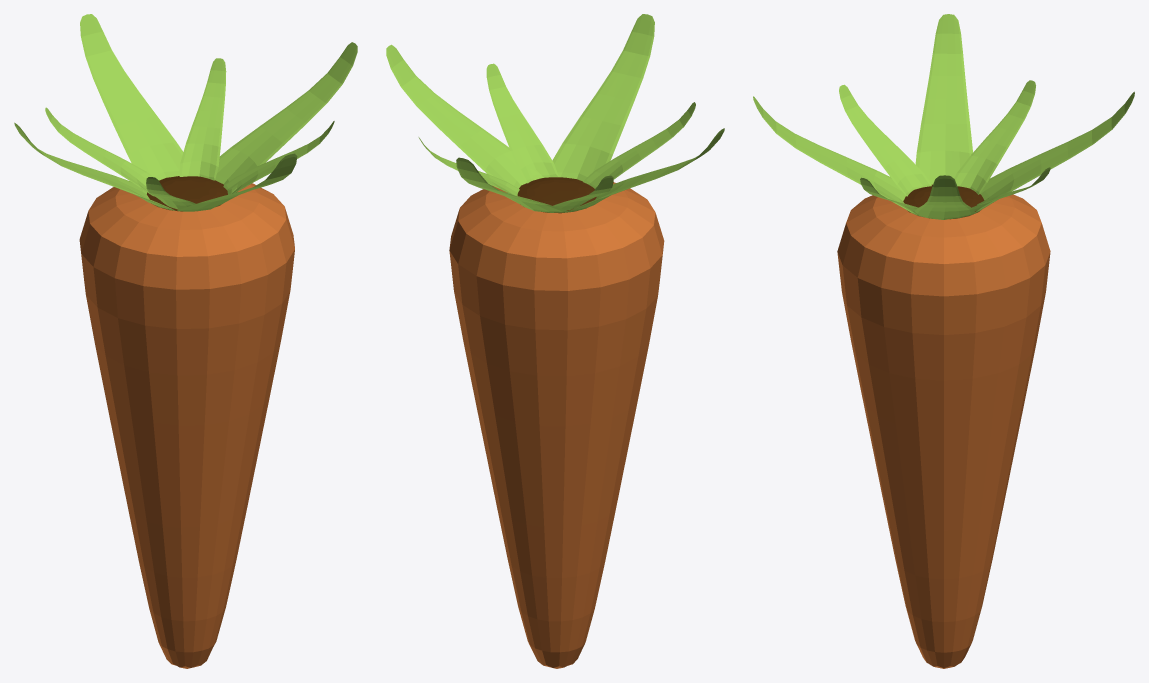
Rendered from zanahoria.fbx.
The picture shows the model from 3 angles, left to right: view 1: azimuth 30°, elevation 25°; view 2: azimuth 150°, elevation 25°; view 3: azimuth 270°, elevation 25°; orthographic projection.
Parts seen in each view (by area): view 1: Cylinder, Cube.005; view 2: Cylinder, Cube.005; view 3: Cylinder, Cube.005.
Boxes of the visible parts, x1=… form: Cylinder: x1=79, y1=176, x2=294, y2=668; Cube.005: x1=14, y1=14, x2=357, y2=211; Cylinder: x1=449, y1=177, x2=664, y2=668; Cube.005: x1=386, y1=14, x2=724, y2=212; Cylinder: x1=837, y1=184, x2=1050, y2=668; Cube.005: x1=753, y1=14, x2=1134, y2=219.
Bounding box in the file's own units: 311 × 516 × 311.
Materials: 3 (1 with a texture image).
